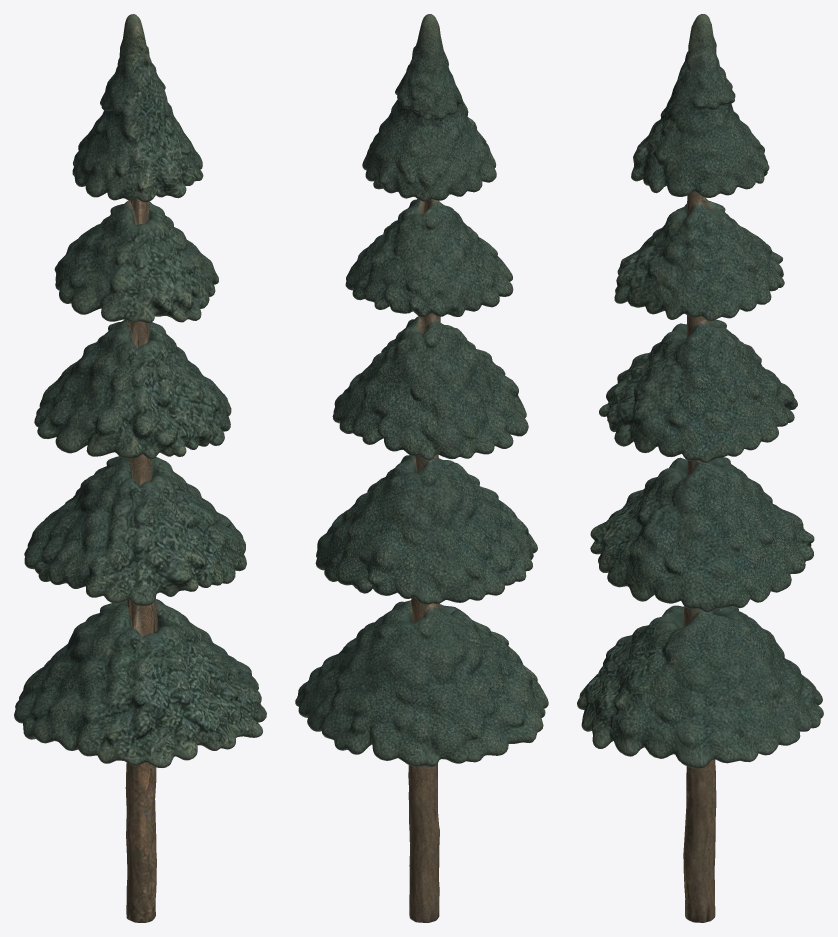
File: abeto_joven.glb
The picture shows the model from 3 angles, left to right: view 1: azimuth 30°, elevation 25°; view 2: azimuth 150°, elevation 25°; view 3: azimuth 270°, elevation 25°; orthographic projection.
Parts seen in each view (by area): view 1: aligerado; view 2: aligerado; view 3: aligerado.
Part boxes in pixels (x1=…): aligerado: x1=14, y1=14, x2=266, y2=922; aligerado: x1=295, y1=14, x2=548, y2=922; aligerado: x1=577, y1=14, x2=823, y2=922.
Bounding box in the file's own units: 1.05 × 4 × 0.9947.
1 material, 1 textured.
